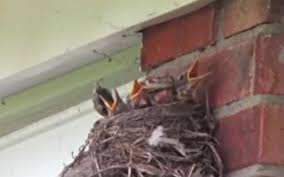bird-nest: (87, 110, 221, 177)
